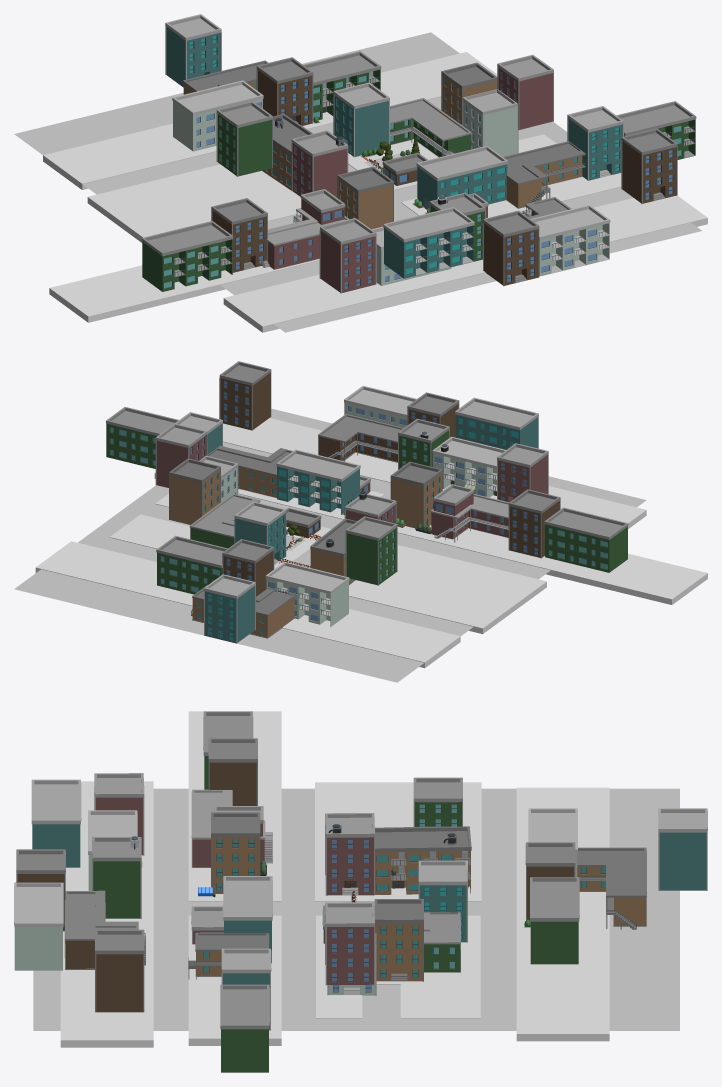
The model's file is City_Level.fbx.
The picture shows the model from 3 angles, top to bottom: view 1: azimuth 30°, elevation 25°; view 2: azimuth 150°, elevation 25°; view 3: azimuth 270°, elevation 25°; orthographic projection. The views are drawn at different scales.
Parts seen in each view (by area): view 1: Street, Cube.004, Cube.006, Cube.005, Cube.002, Building 5 E.002, Building 5 C.002, Building 5 F.003, Building 5 E.001, Building 2 A.002, Building 2 B.004, Building 2 C.002 (+27 smaller); view 2: Street, Cube.006, Cube.005, Cube.002, Cube.004, Building 5 C.002, Building 5 E.001, Building 5 F.002, Building 5 E.002, Building 2 B.004, Building 2 C.002, Building 2 E.003 (+26 smaller); view 3: Street, Cube.005, Cube.004, Cube.006, Cube.002, Cube.007, Building 3 D.002, Building 5 D, Building 5 F.003, Building 5 C.003, Building 5 C.001, Building 2 B.004 (+26 smaller).
Boxes of the visible parts, <box> form: Street: <box>14,32,701,332</box>; Cube.004: <box>223,195,707,332</box>; Cube.006: <box>87,164,301,242</box>; Cube.005: <box>43,52,497,189</box>; Cube.002: <box>49,259,319,322</box>; Building 5 E.002: <box>383,207,474,278</box>; Building 5 C.002: <box>141,221,233,291</box>; Building 5 F.003: <box>530,205,610,276</box>; Building 5 E.001: <box>416,145,507,206</box>; Building 2 A.002: <box>319,218,376,293</box>; Building 2 B.004: <box>621,128,677,203</box>; Building 2 C.002: <box>216,101,272,176</box>; Street: <box>14,408,646,682</box>; Cube.006: <box>349,545,546,634</box>; Cube.005: <box>35,541,460,668</box>; Cube.002: <box>397,525,707,604</box>; Cube.004: <box>223,418,646,528</box>; Building 5 C.002: <box>544,507,628,572</box>; Building 5 E.001: <box>276,449,360,514</box>; Building 5 F.002: <box>265,562,349,626</box>; Building 5 E.002: <box>455,397,538,449</box>; Building 2 B.004: <box>219,361,271,430</box>; Building 2 C.002: <box>345,516,397,585</box>; Building 2 E.003: <box>204,574,255,643</box>; Street: <box>33,788,679,1030</box>; Cube.005: <box>516,787,609,1041</box>; Cube.004: <box>60,781,153,1047</box>; Cube.006: <box>315,782,481,901</box>; Cube.002: <box>188,711,281,901</box>; Cube.007: <box>400,915,480,1018</box>; Building 3 D.002: <box>577,847,646,929</box>; Building 5 D: <box>375,826,471,894</box>; Building 5 F.003: <box>14,882,63,970</box>; Building 5 C.003: <box>220,984,269,1072</box>; Building 5 C.001: <box>530,877,579,964</box>; Building 2 B.004: <box>95,929,144,1012</box>.
Bounding box in the file's own units: 21300 × 2736 × 17302.
